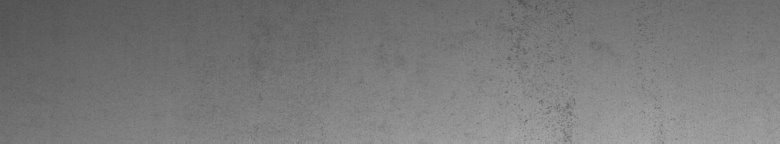ib: (507, 4, 600, 128)
